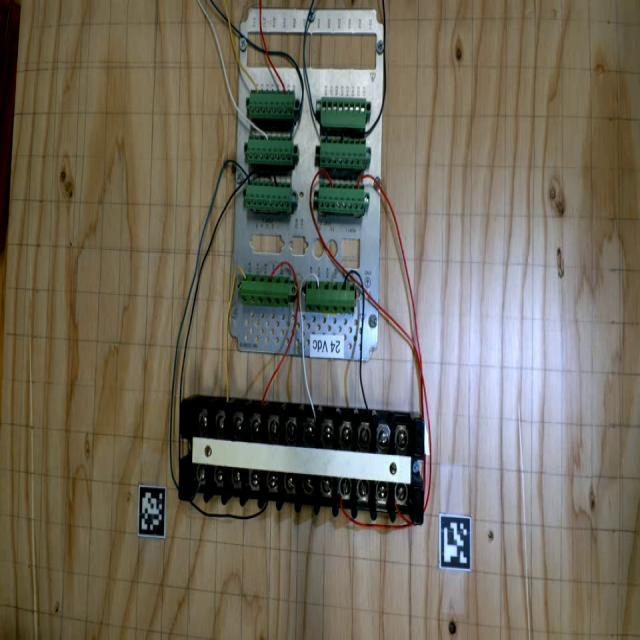Flathead_Block: (172, 395, 433, 525)
Terminal_1: (240, 273, 290, 307), (305, 281, 355, 314)
Terminal_2: (319, 137, 367, 170), (318, 182, 365, 214), (245, 180, 291, 212), (246, 134, 293, 165), (249, 90, 294, 119)
